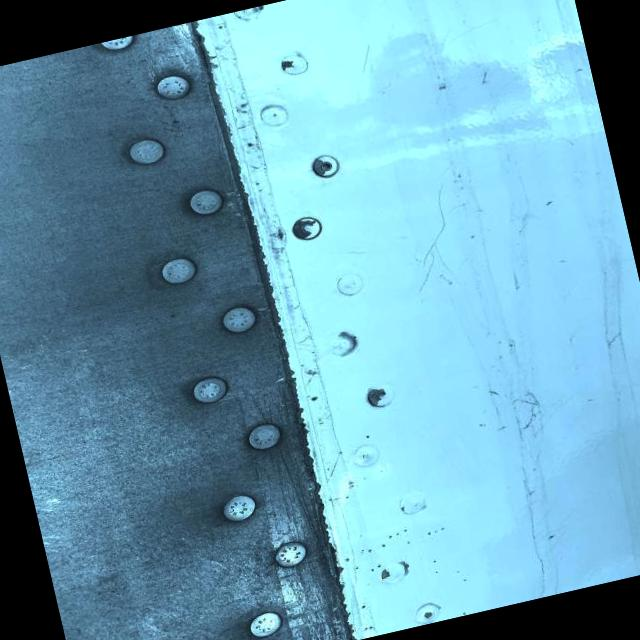crack: (387, 169, 482, 293), (502, 383, 572, 437), (466, 61, 497, 89), (358, 40, 382, 74)
